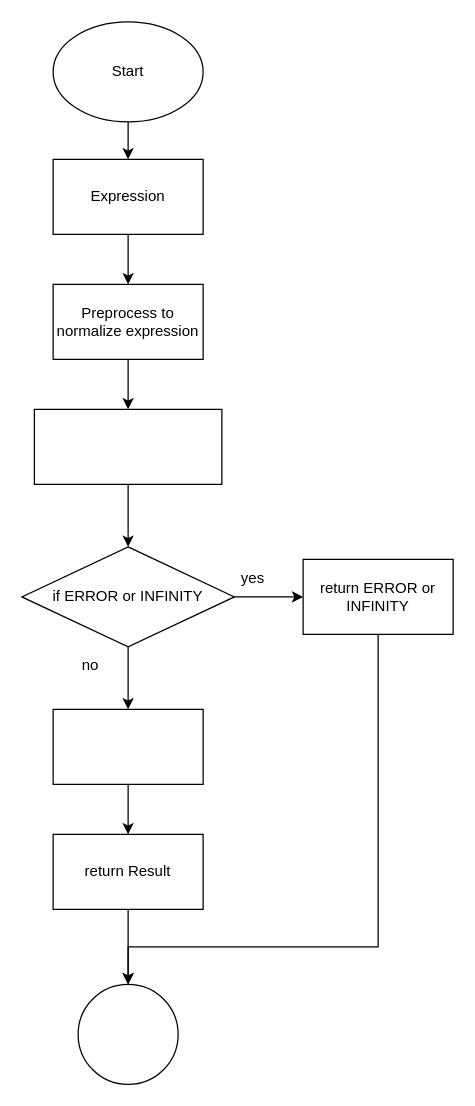
The diagram is 475 pixels wide and 1106 high, and some of its shapes have lost their labels. Here are the shapes that lost their labels. From the top down, the box of each, then its label:
(33, 408, 222, 484): Calculate normalized_expression by Sympy
(52, 708, 203, 784): Write Expression and Result to database
(77, 983, 178, 1084): end
